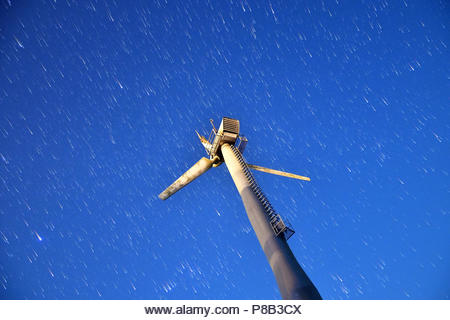faulty: (157, 115, 316, 206)
